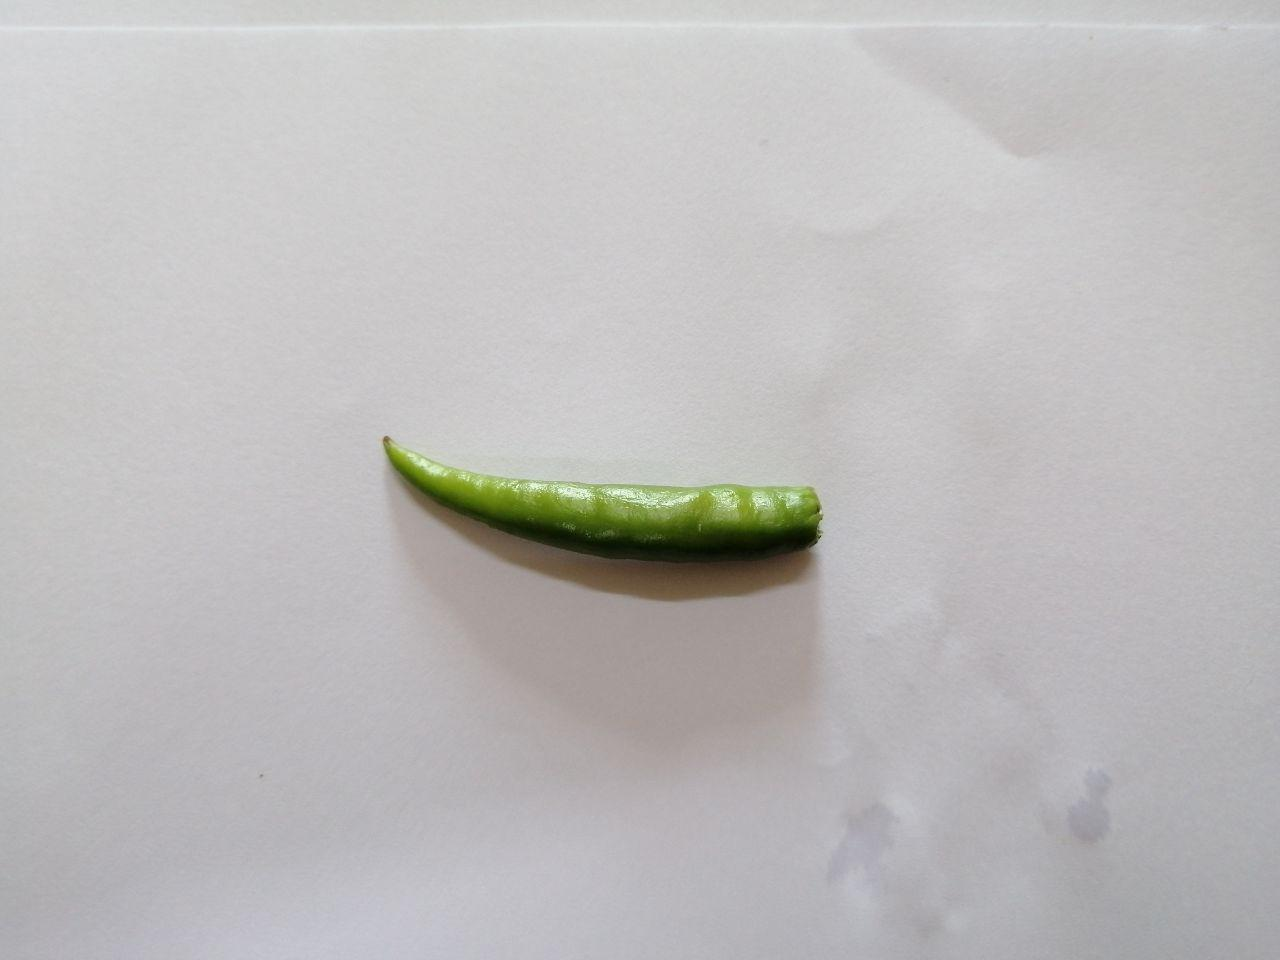lada hijau: (356, 414, 850, 592)
